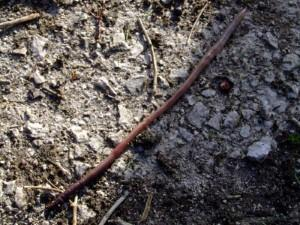earthworms: (4, 13, 270, 219)
